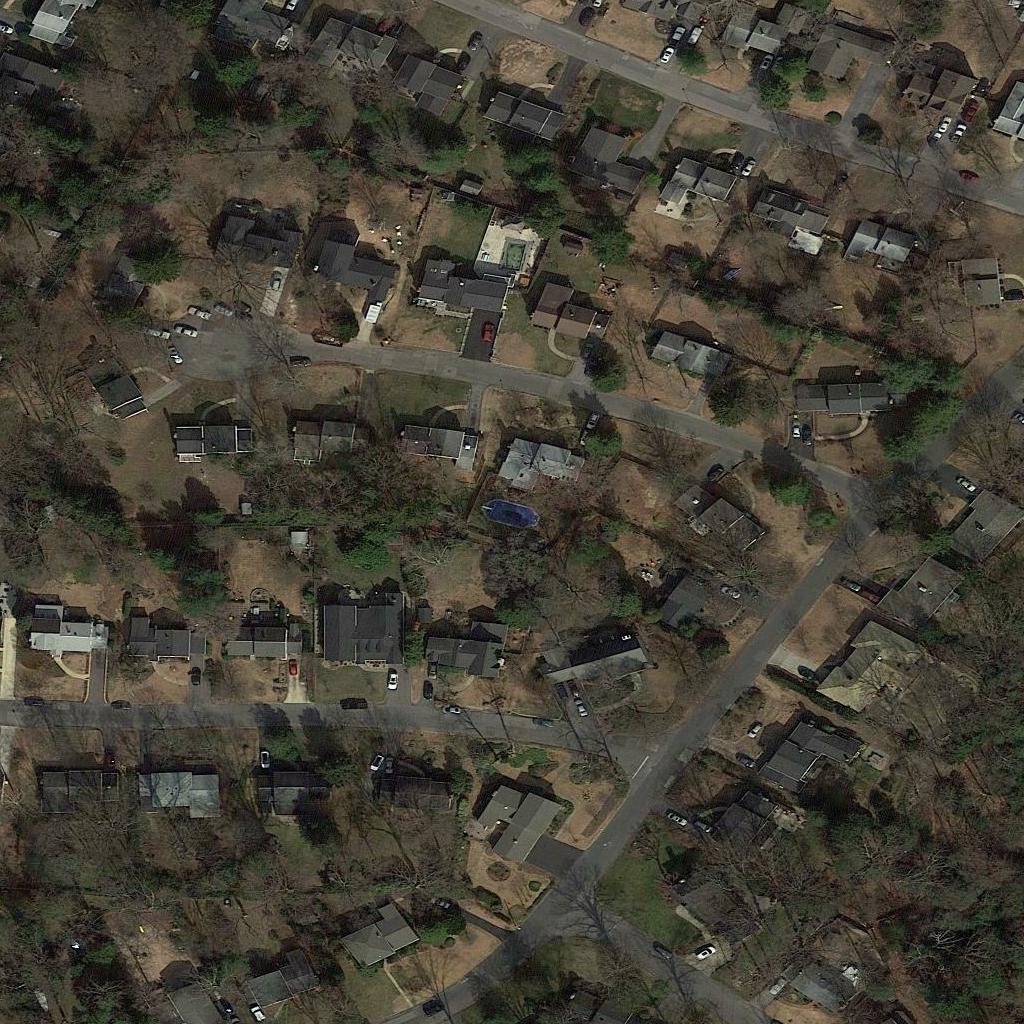ship: (275, 22, 297, 50)
